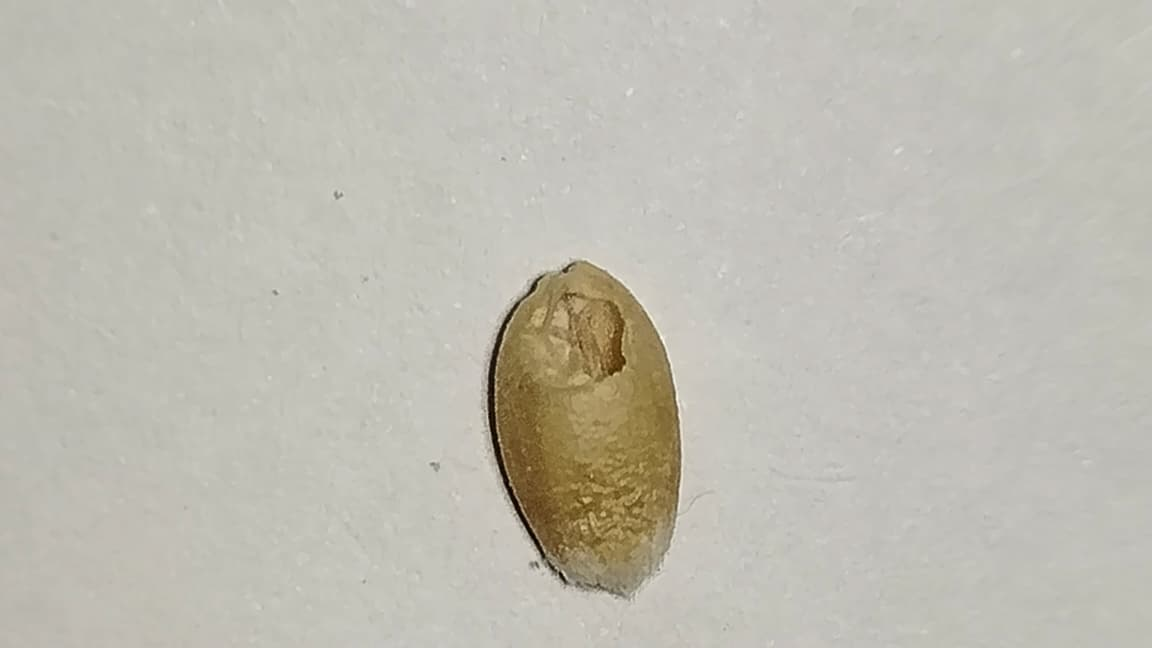damage: (494, 263, 678, 598)
insectdamage: (520, 273, 630, 395)
